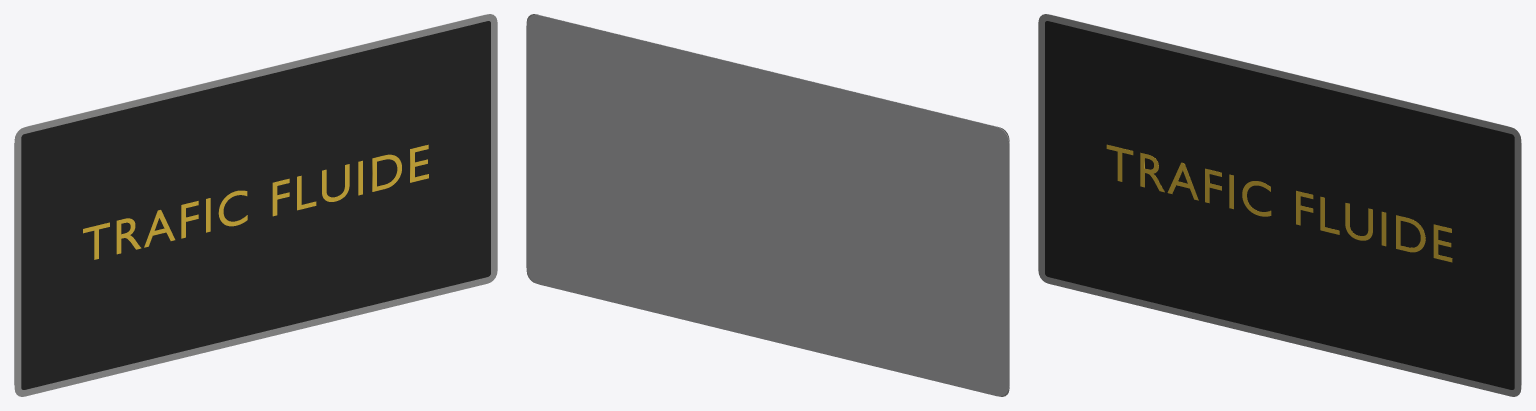
Rendered from MSG_TRAFIC_FLUIDE_TRAFIC_NORMAL_CIRCULATION_NORMALE.glb.
3 views of the same model, side by side, from view 1: azimuth 30°, elevation 25°; view 2: azimuth 150°, elevation 25°; view 3: azimuth 330°, elevation 25° (orthographic).
Parts seen in each view (by area): view 1: MSG_TRAFIC_FLUIDE_TRAFIC_NORMAL_CIRCULATION_NORMALE_fond01, MSG_TRAFIC_FLUIDE_TRAFIC_NORMAL_CIRCULATION_NORMALE_cadre00, MSG_TRAFIC_FLUIDE_TRAFIC_NORMAL_CIRCULATION_NORMALE_txt02, MSG_TRAFIC_FLUIDE_TRAFIC_NORMAL_CIRCULATION_NORMALE_dos; view 2: MSG_TRAFIC_FLUIDE_TRAFIC_NORMAL_CIRCULATION_NORMALE_dos; view 3: MSG_TRAFIC_FLUIDE_TRAFIC_NORMAL_CIRCULATION_NORMALE_fond01, MSG_TRAFIC_FLUIDE_TRAFIC_NORMAL_CIRCULATION_NORMALE_cadre00, MSG_TRAFIC_FLUIDE_TRAFIC_NORMAL_CIRCULATION_NORMALE_txt02, MSG_TRAFIC_FLUIDE_TRAFIC_NORMAL_CIRCULATION_NORMALE_dos.
Part boxes in pixels (left/top/right/bottom): MSG_TRAFIC_FLUIDE_TRAFIC_NORMAL_CIRCULATION_NORMALE_fond01: left=21, top=21, right=490, bottom=389; MSG_TRAFIC_FLUIDE_TRAFIC_NORMAL_CIRCULATION_NORMALE_cadre00: left=14, top=14, right=497, bottom=396; MSG_TRAFIC_FLUIDE_TRAFIC_NORMAL_CIRCULATION_NORMALE_txt02: left=83, top=144, right=428, bottom=259; MSG_TRAFIC_FLUIDE_TRAFIC_NORMAL_CIRCULATION_NORMALE_dos: left=14, top=14, right=484, bottom=384; MSG_TRAFIC_FLUIDE_TRAFIC_NORMAL_CIRCULATION_NORMALE_dos: left=526, top=14, right=1009, bottom=396; MSG_TRAFIC_FLUIDE_TRAFIC_NORMAL_CIRCULATION_NORMALE_fond01: left=1045, top=21, right=1514, bottom=389; MSG_TRAFIC_FLUIDE_TRAFIC_NORMAL_CIRCULATION_NORMALE_cadre00: left=1038, top=14, right=1521, bottom=396; MSG_TRAFIC_FLUIDE_TRAFIC_NORMAL_CIRCULATION_NORMALE_txt02: left=1106, top=144, right=1452, bottom=262; MSG_TRAFIC_FLUIDE_TRAFIC_NORMAL_CIRCULATION_NORMALE_dos: left=1051, top=14, right=1521, bottom=384.
Size of the model in its own units: 1.5 by 0.8 by 0.0025.
